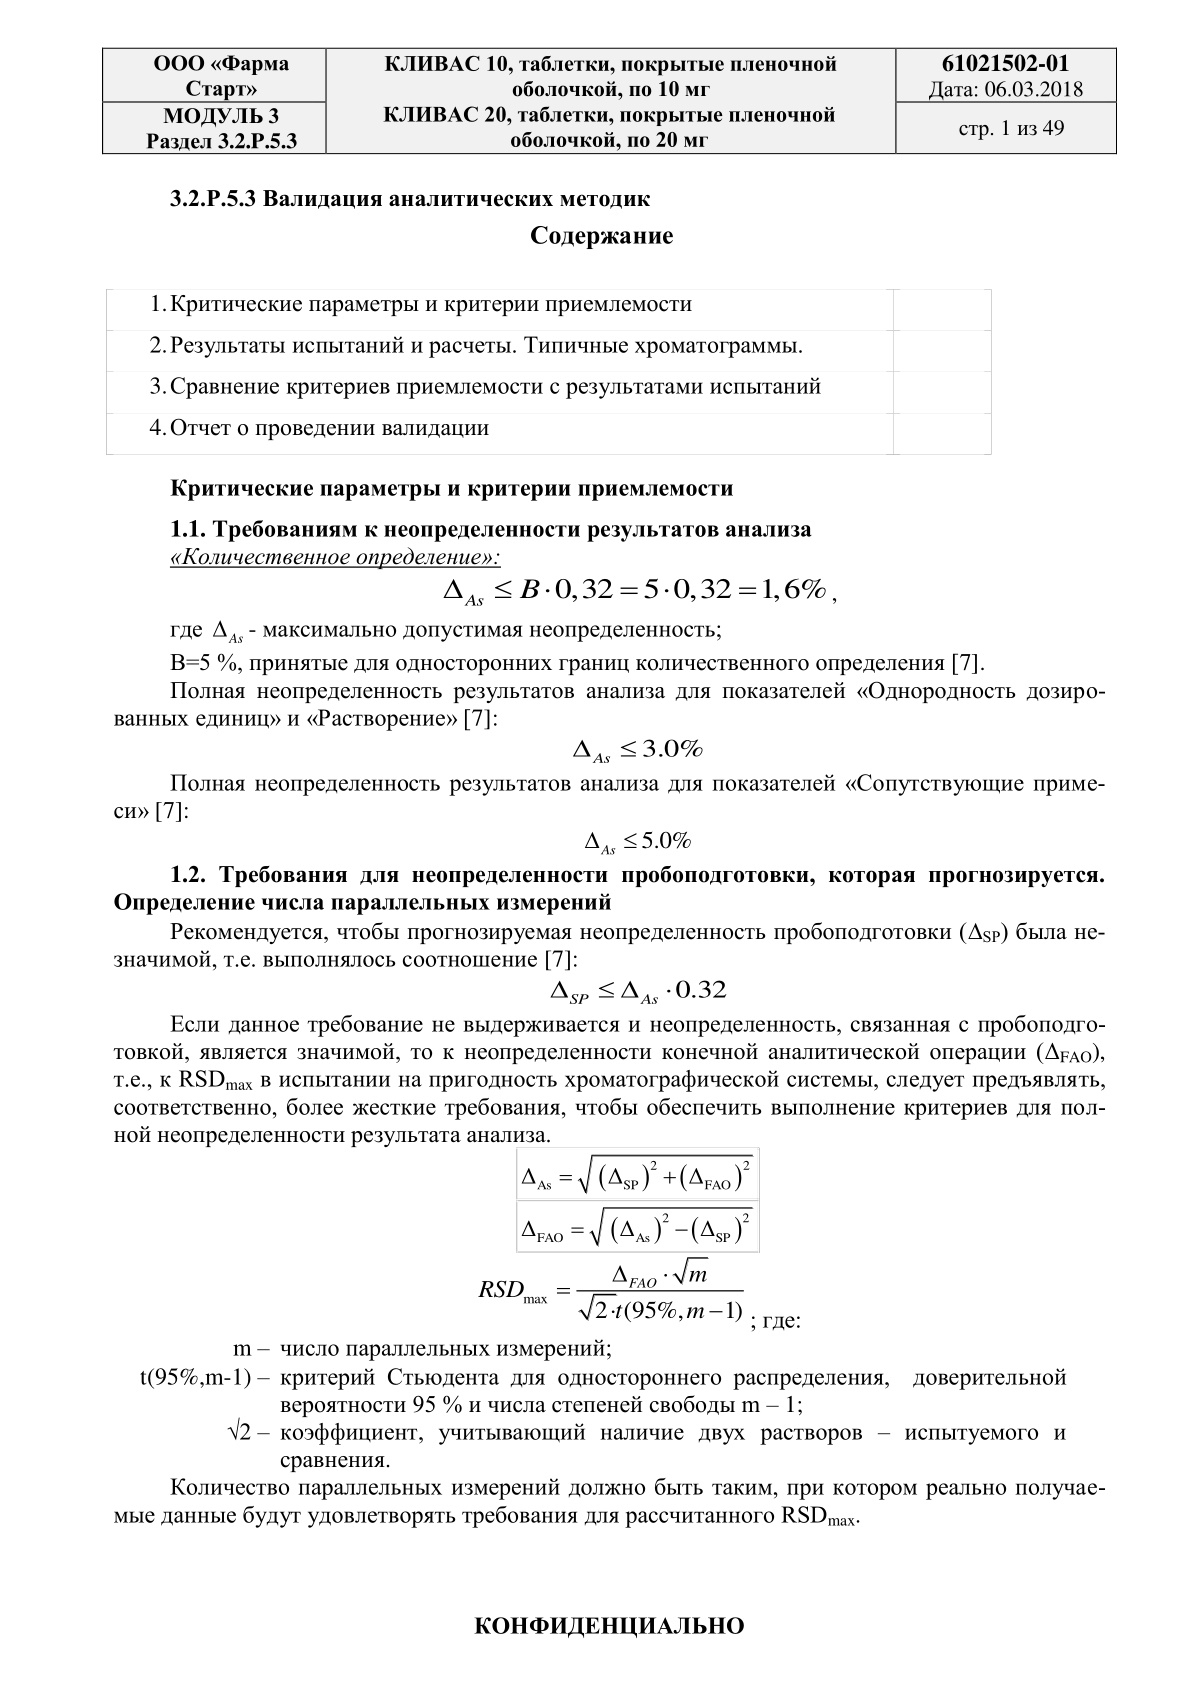merged_cells: (99, 46, 1119, 156)
